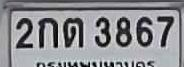2: (15, 16, 32, 47)
3: (94, 16, 110, 46)
6: (136, 16, 152, 46)
7: (156, 15, 173, 46)
8: (115, 16, 131, 46)
A01: (37, 17, 57, 47)
A21: (62, 17, 82, 47)
